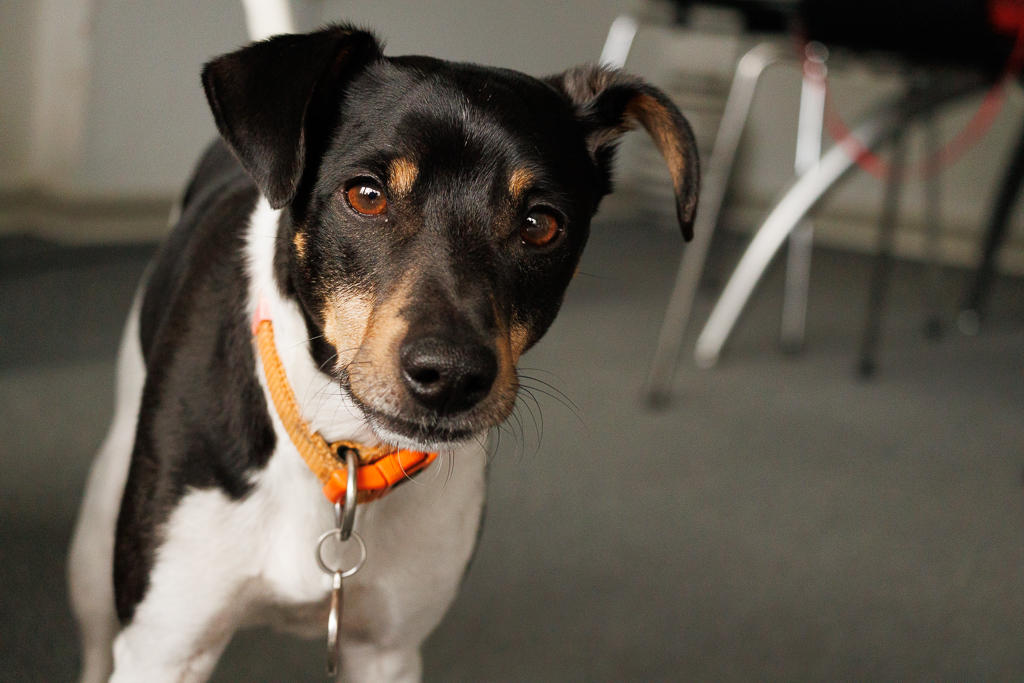Dog: (61, 0, 715, 683)
